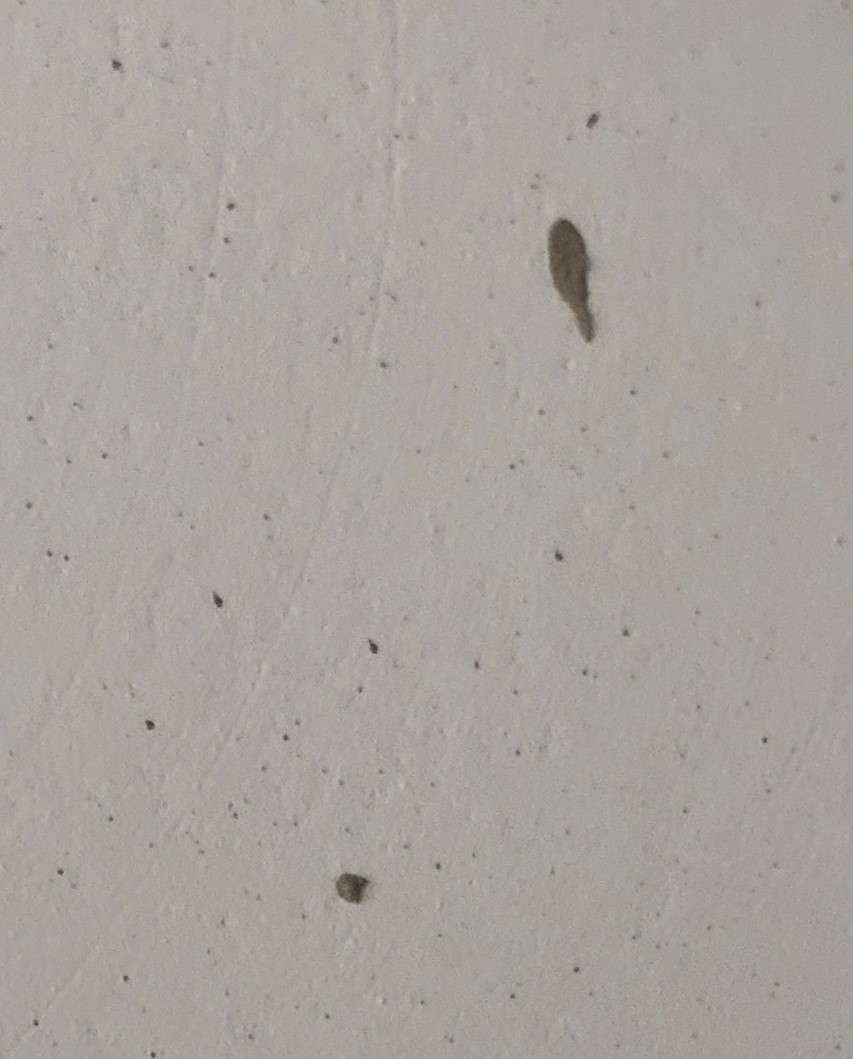grey spot: (545, 219, 593, 340), (336, 874, 370, 904)
